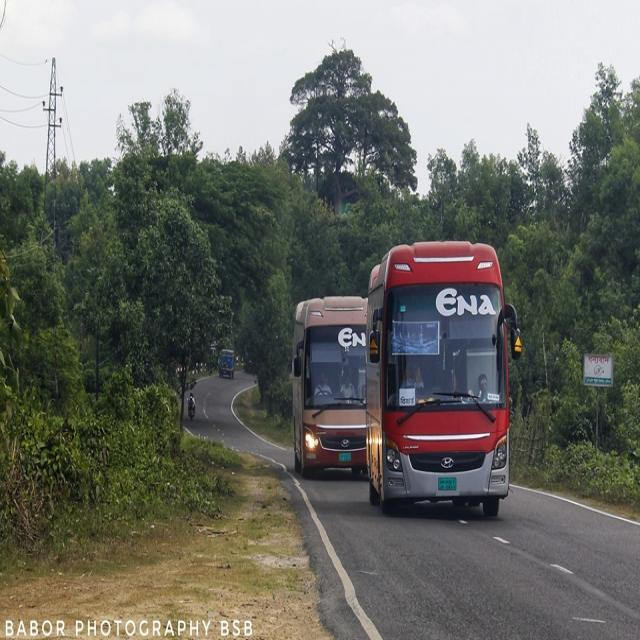bus: (366, 240, 522, 520), (292, 296, 367, 481)
